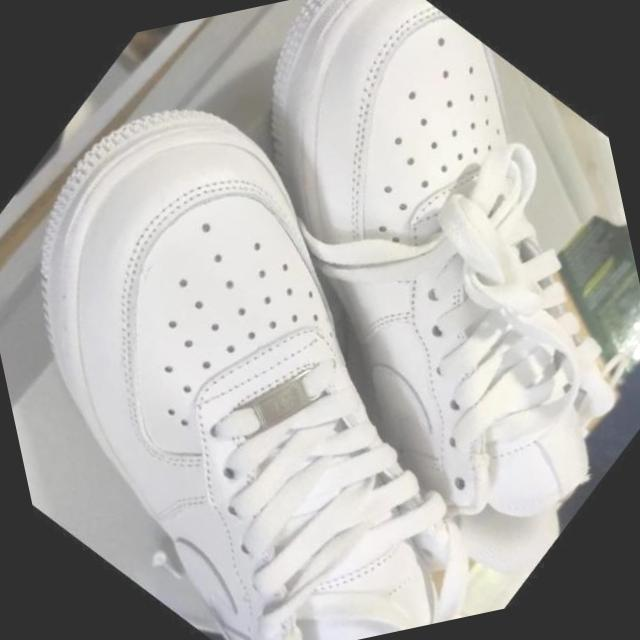nike_original_airforce: (0, 0, 640, 640), (50, 0, 640, 640)
